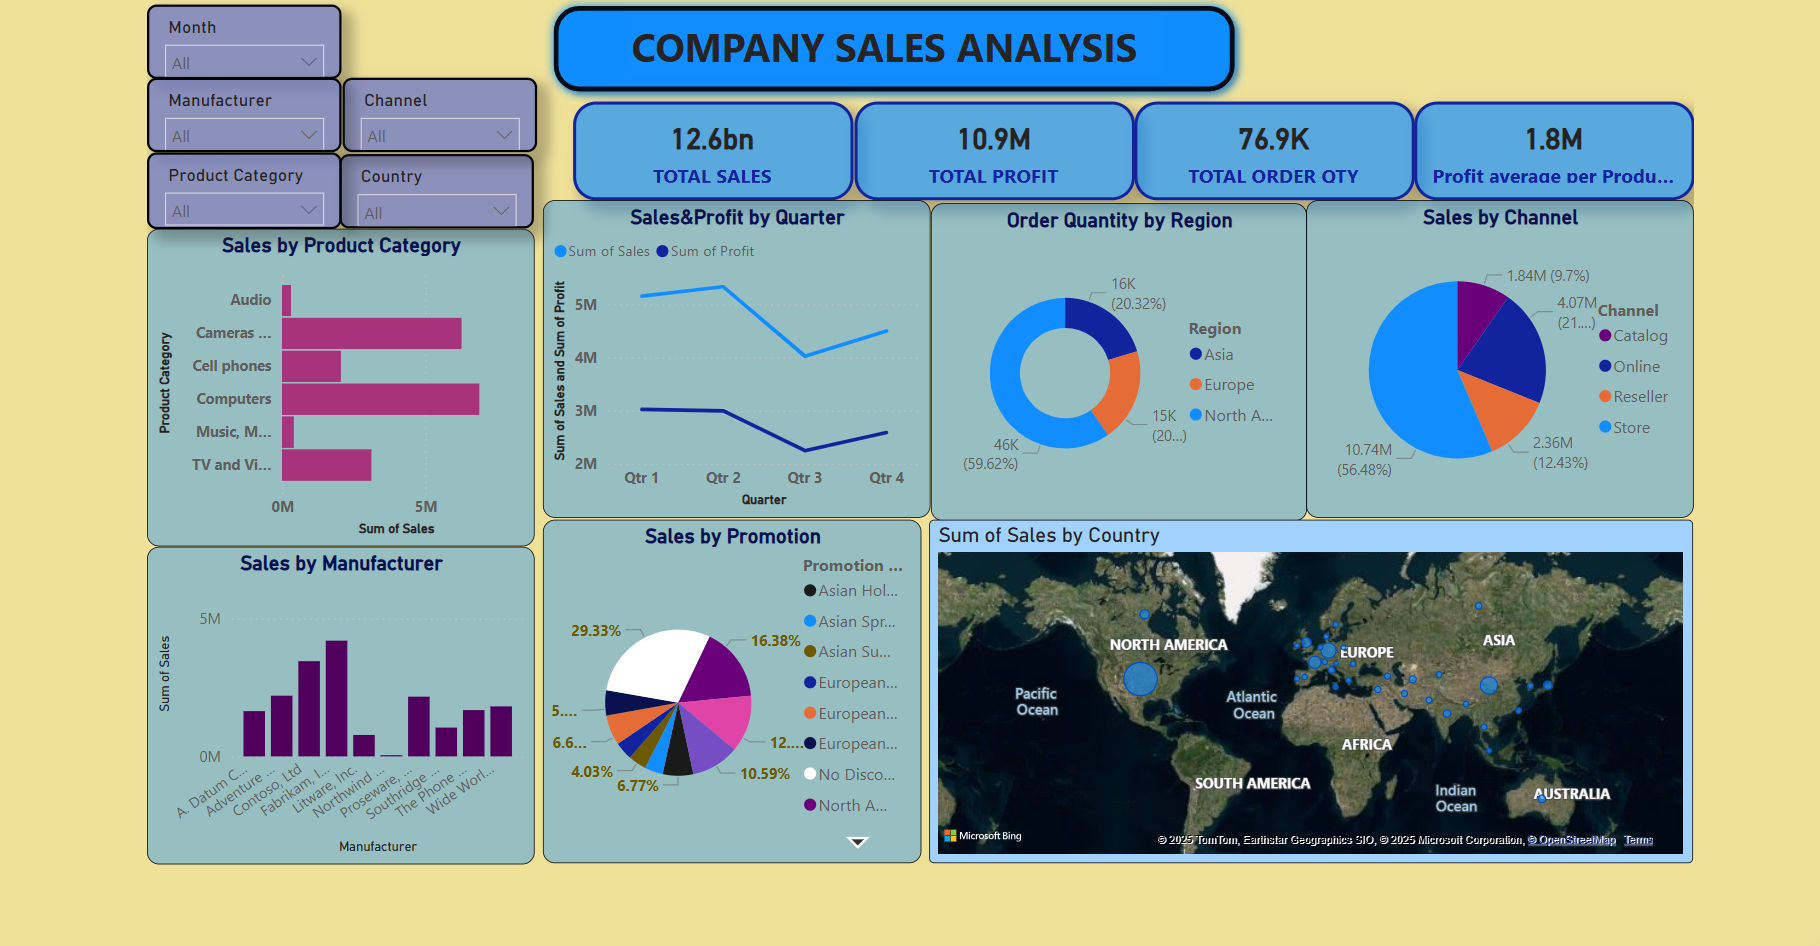

The page's visual inventory and layout, read from the dashboard file:
{"tool":"powerbi","page":{"name":"2017","canvas":[1280,720],"ordinal":3},"visuals":[{"type":"shape","box":[327.9,0,581.5,88.8],"z":0,"group":"g1"},{"type":"group","id":"g1","title":"Group 1","box":[327.9,0,581.5,88.8],"z":0},{"type":"textbox","box":[396.7,16.3,443.8,52.5],"z":1000,"group":"g1"},{"type":"card","fields":{"Values":["KPIs.TOTAL SALES"]},"box":[353.2,88.8,231.9,81.5],"z":1000},{"type":"card","fields":{"Values":["KPIs.TOTAL PROFIT"]},"box":[585.1,88.8,231.9,81.5],"z":2000},{"type":"card","fields":{"Values":["KPIs.TOTAL ORDER QTY"]},"box":[816.9,88.8,231.9,81.5],"z":3000},{"type":"card","fields":{"Values":["KPIs.Profit average per Product Category"]},"box":[1048.1,88.8,231.9,81.5],"z":4000},{"type":"barChart","title":"Sales by Product Category","fields":{"Category":["COMPANY SALES DATA.Product Category"],"Y":["Sum(COMPANY SALES DATA.Sales)"]},"box":[0,193.8,320.6,262.7],"z":5000},{"type":"lineChart","title":"Sales&Profit by Quarter","fields":{"Category":["COMPANY SALES DATA.Order Date.Variation.Date Hierarchy.Quarter"],"Y":["Sum(COMPANY SALES DATA.Sales)","Sum(COMPANY SALES DATA.Profit)"]},"box":[327.9,170.3,320.6,262.7],"z":6000},{"type":"pieChart","title":"Sales by Channel","fields":{"Category":["COMPANY SALES DATA.Channel"],"Y":["Sum(COMPANY SALES DATA.Sales)"]},"box":[959.4,170.3,320.6,262.7],"z":7000},{"type":"donutChart","title":"Order Quantity by Region","fields":{"Category":["COMPANY SALES DATA.Region"],"Y":["Sum(COMPANY SALES DATA.Order Qty)"]},"box":[648.5,172.1,311.6,262.7],"z":8000},{"type":"columnChart","title":"Sales by Manufacturer","fields":{"Category":["COMPANY SALES DATA.Manufacturer"],"Y":["Sum(COMPANY SALES DATA.Sales)"]},"box":[0,456.5,320.6,262.7],"z":9000},{"type":"pieChart","title":"Sales by Promotion","fields":{"Y":["Sum(COMPANY SALES DATA.Sales)"],"Series":["COMPANY SALES DATA.Promotion Name"]},"box":[327.9,434.7,313.4,284.4],"z":10000},{"type":"slicer","fields":{"Values":["COMPANY SALES DATA.Order Date.Variation.Date Hierarchy.Month"]},"box":[0,7.2,161.2,61.6],"z":11000},{"type":"slicer","fields":{"Values":["COMPANY SALES DATA.Country"]},"box":[159.4,132.2,161.2,61.6],"z":12000},{"type":"slicer","fields":{"Values":["COMPANY SALES DATA.Channel"]},"box":[161.2,68.8,161.2,61.6],"z":13000},{"type":"slicer","fields":{"Values":["COMPANY SALES DATA.Manufacturer"]},"box":[0,68.8,161.2,61.6],"z":14000},{"type":"slicer","fields":{"Values":["COMPANY SALES DATA.Product Category"]},"box":[0,130.4,161.2,63.4],"z":15000},{"type":"map","fields":{"Category":["COMPANY SALES DATA.Country"],"Size":["Sum(COMPANY SALES DATA.Sales)"]},"box":[647.8,434.7,632.2,284.4],"z":16000}]}

Visuals, with their boxes on the page's 1280x720 design canvas (x1, y1, x2, y2). These are canvas units, not pixel positions in the 1820x946 screenshot, which may show the page scaled, cropped or inside an application window:
shape: bbox=(328, 0, 909, 89)
"Group 1" group: bbox=(328, 0, 909, 89)
textbox: bbox=(397, 16, 840, 69)
card - KPIs.TOTAL SALES: bbox=(353, 89, 585, 170)
card - KPIs.TOTAL PROFIT: bbox=(585, 89, 817, 170)
card - KPIs.TOTAL ORDER QTY: bbox=(817, 89, 1049, 170)
card - KPIs.Profit average per Product Category: bbox=(1048, 89, 1280, 170)
"Sales by Product Category" barChart: bbox=(0, 194, 321, 456)
"Sales&Profit by Quarter" lineChart: bbox=(328, 170, 648, 433)
"Sales by Channel" pieChart: bbox=(959, 170, 1280, 433)
"Order Quantity by Region" donutChart: bbox=(648, 172, 960, 435)
"Sales by Manufacturer" columnChart: bbox=(0, 456, 321, 719)
"Sales by Promotion" pieChart: bbox=(328, 435, 641, 719)
slicer - COMPANY SALES DATA.Order Date.Variation.Date Hierarchy.Month: bbox=(0, 7, 161, 69)
slicer - COMPANY SALES DATA.Country: bbox=(159, 132, 321, 194)
slicer - COMPANY SALES DATA.Channel: bbox=(161, 69, 322, 130)
slicer - COMPANY SALES DATA.Manufacturer: bbox=(0, 69, 161, 130)
slicer - COMPANY SALES DATA.Product Category: bbox=(0, 130, 161, 194)
map - COMPANY SALES DATA.Country x Sum(COMPANY SALES DATA.Sales): bbox=(648, 435, 1280, 719)
